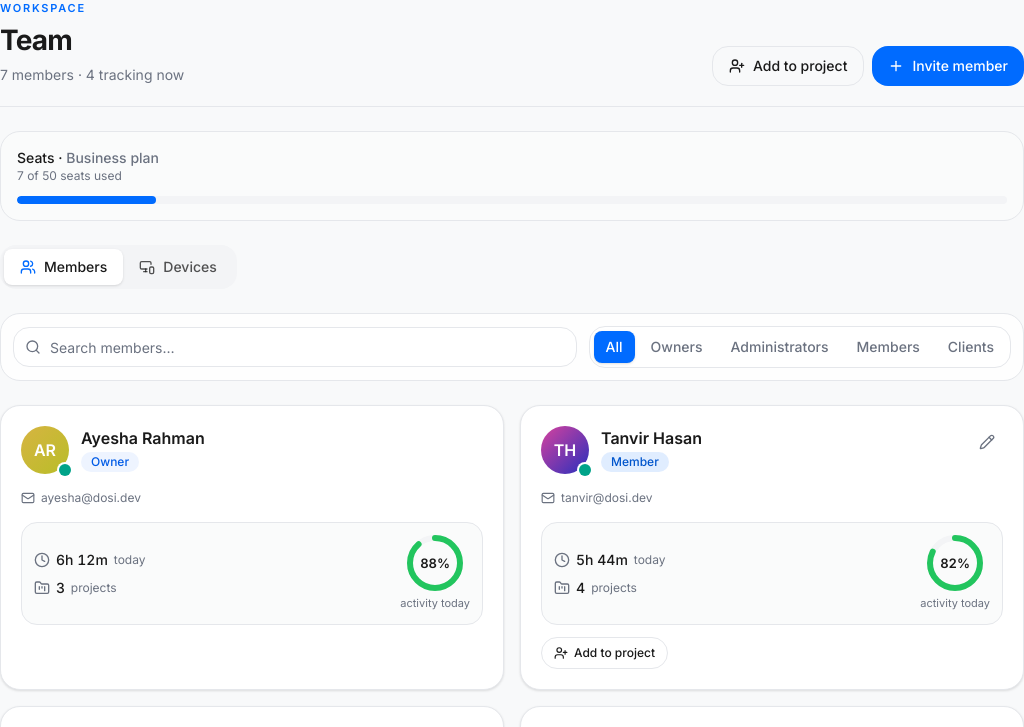
it: team page — sending invites (demo mode) › rejects a malformed address, names the offender, and sends nothing
This screenshot has width=1024, height=727.
Click the button "Invite member" at (948, 66), box 872,46 -> 1023,86
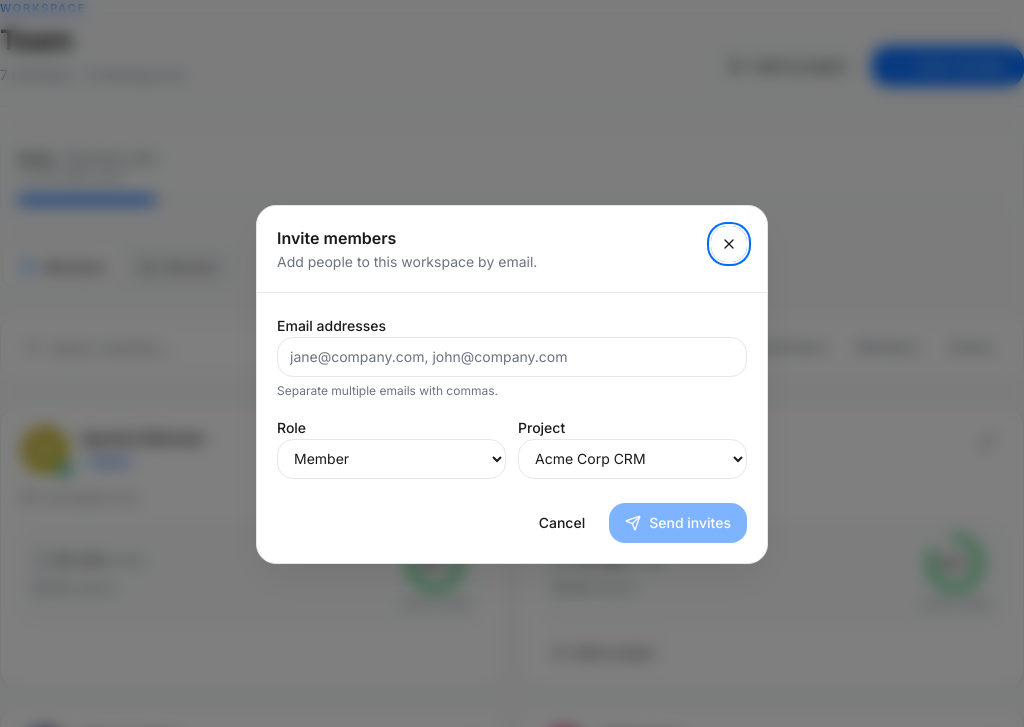
Type "not-an-email" into the field labelled "Email addresses" at (512, 356), box 277,336 -> 747,376
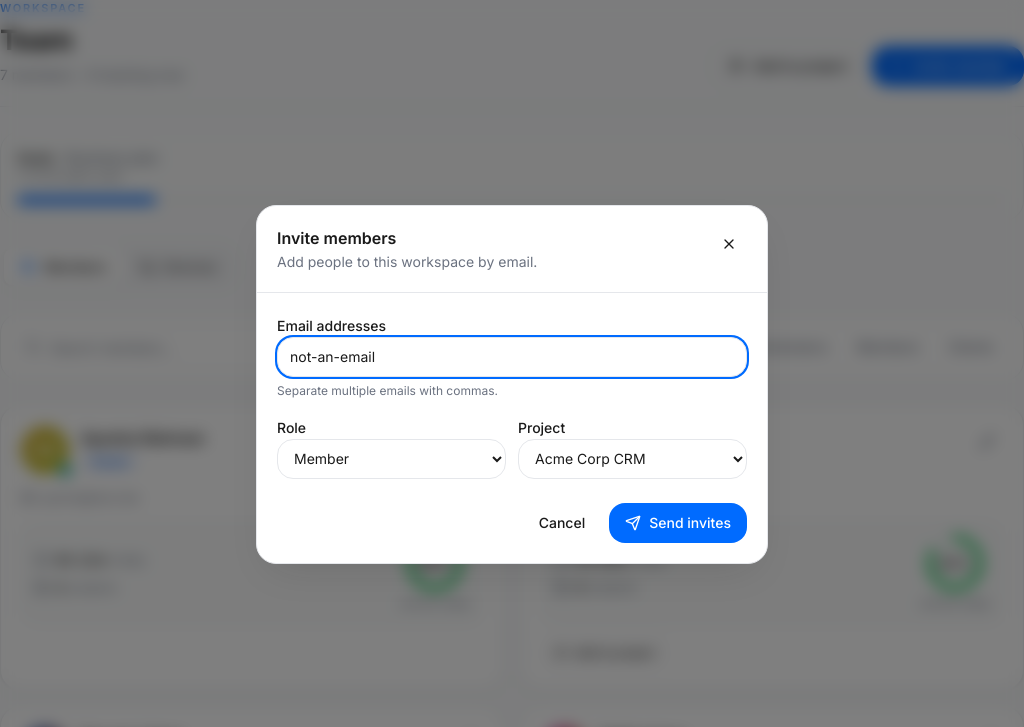
Click the button "Send invites" at (678, 522), box 609,502 -> 747,542
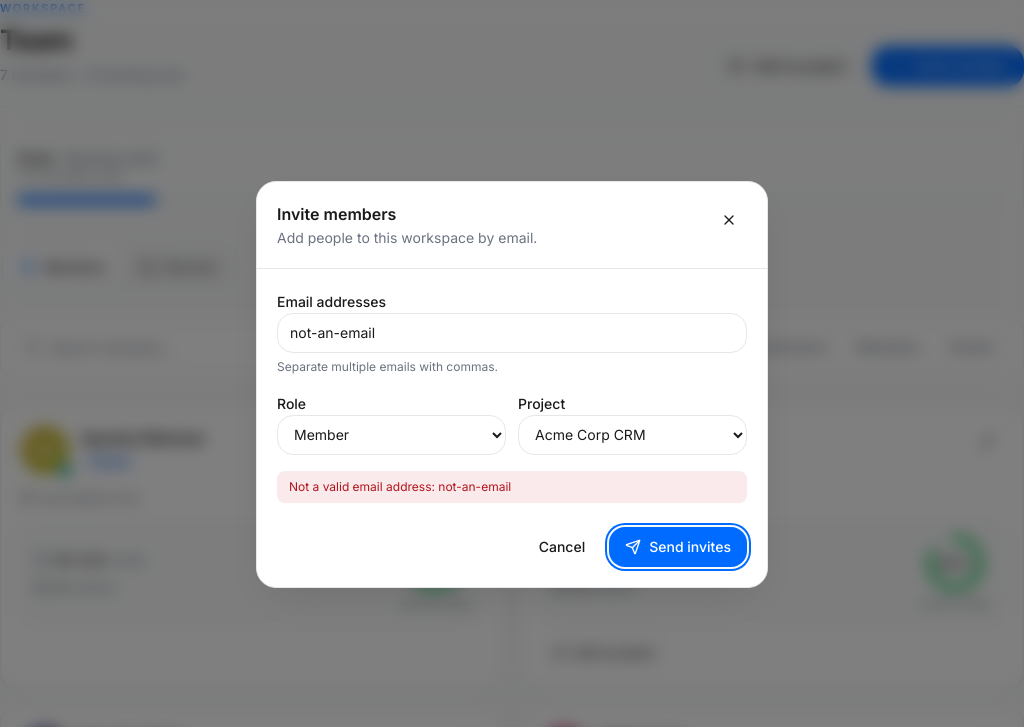
Expected: the text "Not a valid email address: not-an-email" is shown, 277,470 -> 747,502
